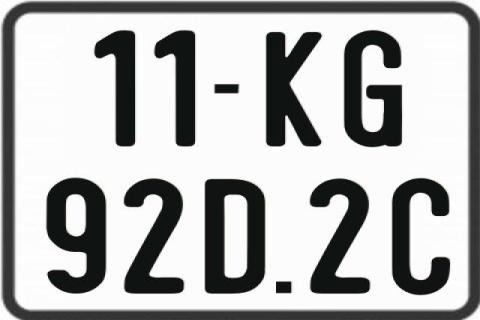0: (46, 178, 106, 298), (124, 176, 185, 292), (309, 176, 370, 291), (92, 29, 138, 149), (152, 30, 196, 150)
C: (389, 176, 448, 293)
D: (203, 177, 268, 295)
G: (341, 28, 400, 149)
K: (264, 30, 321, 150)
